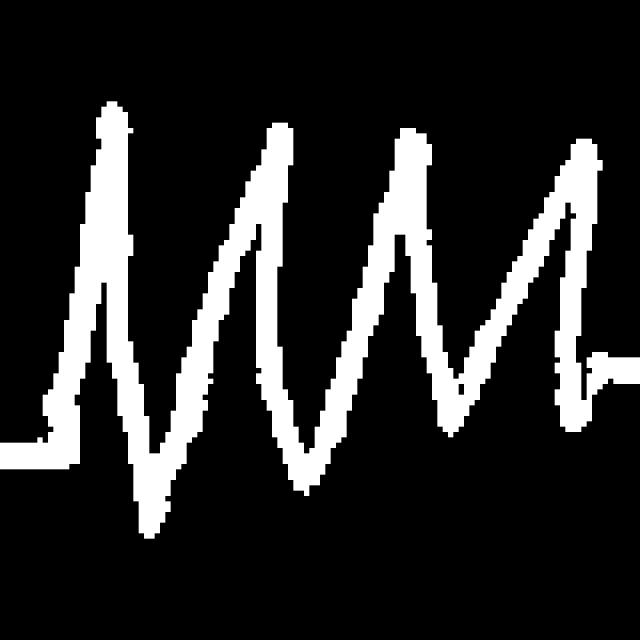resistor: (39, 90, 615, 550)
